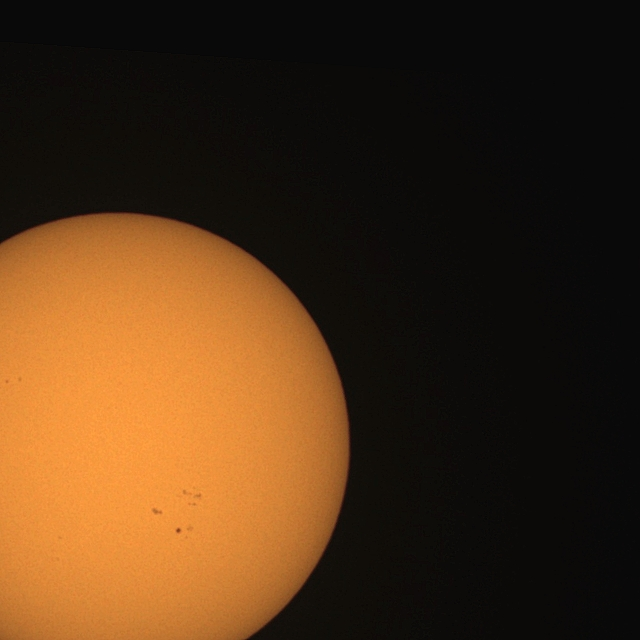sunspot: (181, 486, 203, 505), (175, 524, 194, 537), (4, 376, 22, 385), (175, 526, 186, 536), (151, 507, 163, 516), (4, 378, 10, 384), (17, 376, 22, 383)
